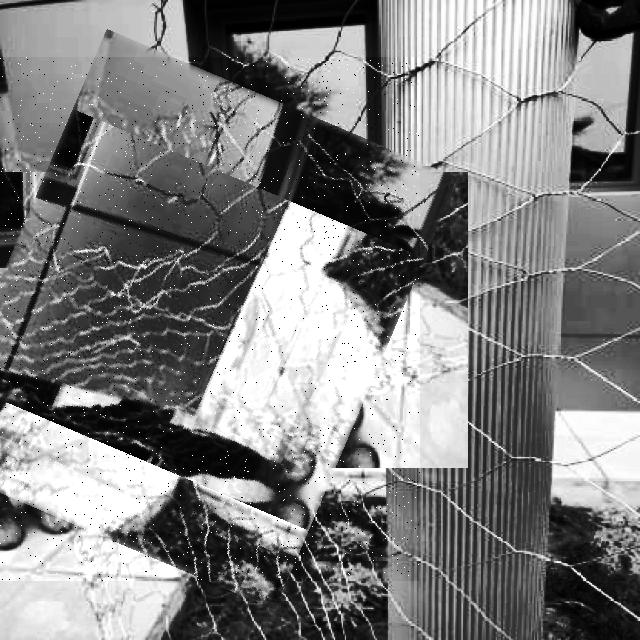anomaly-fence: (0, 57, 420, 581)
